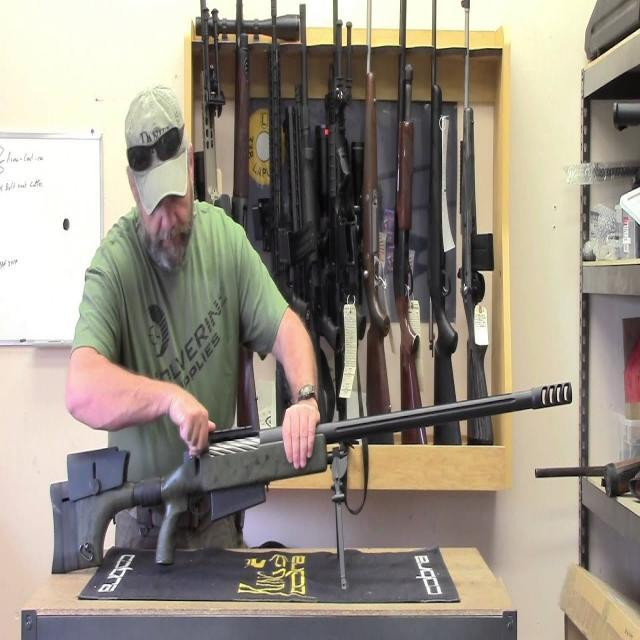rifle: (44, 369, 586, 590)
